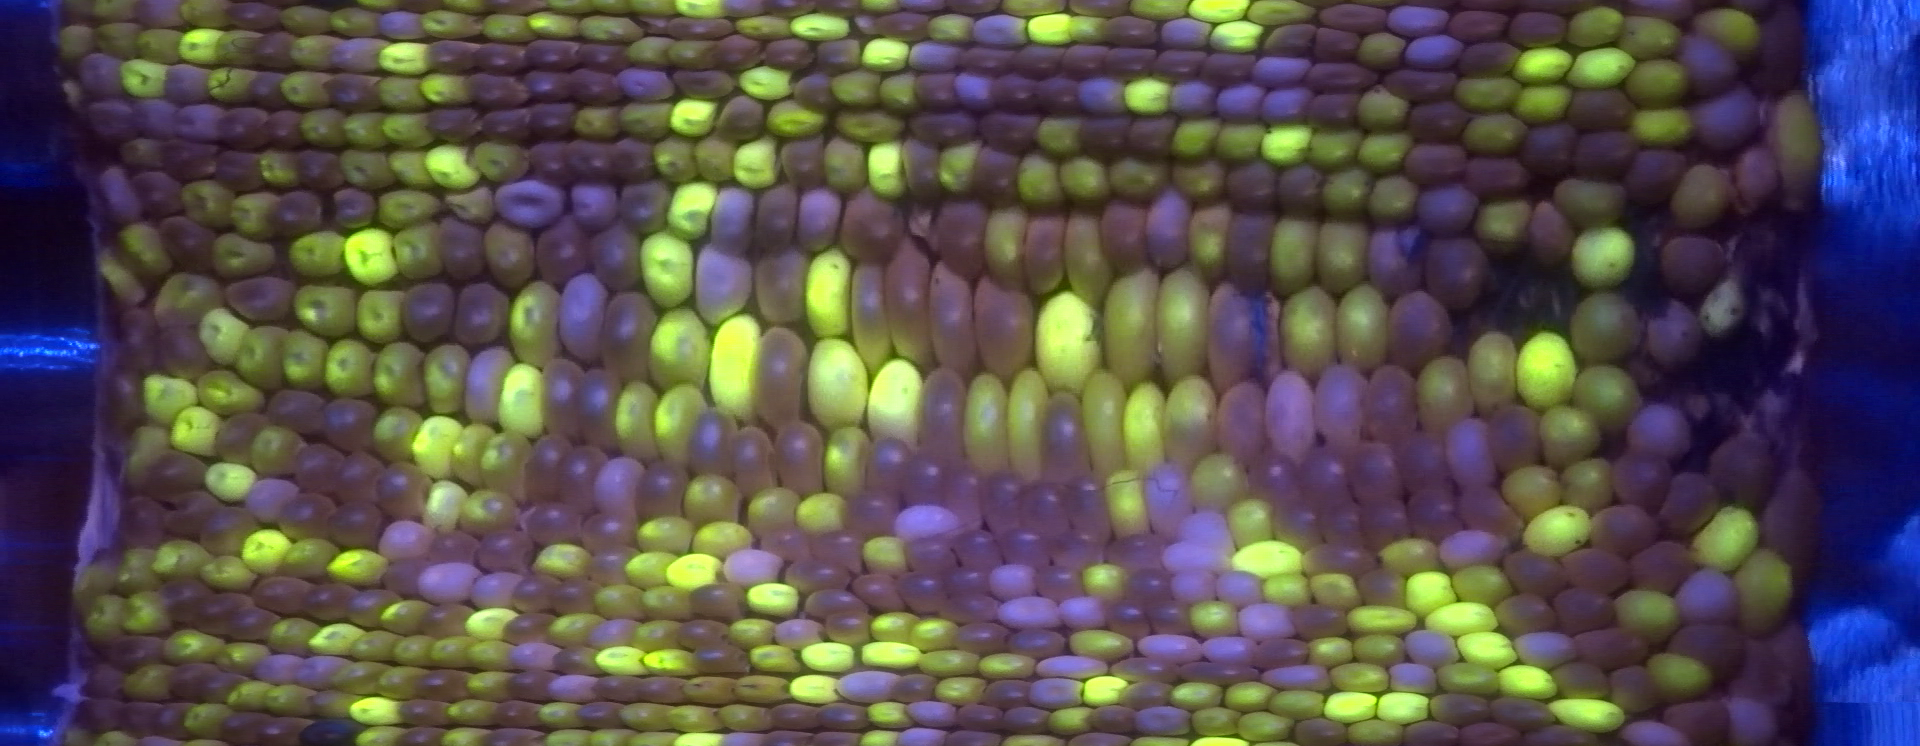fluorescent: (1093, 263, 1168, 393), (1030, 285, 1111, 402), (1763, 86, 1829, 219), (1149, 258, 1217, 383), (703, 309, 769, 428), (802, 334, 879, 436), (951, 365, 1018, 480), (643, 301, 722, 397), (1157, 372, 1228, 477), (1565, 285, 1648, 374), (1271, 281, 1346, 376), (1725, 546, 1799, 641), (860, 353, 932, 448), (1075, 366, 1134, 481), (1060, 203, 1122, 314), (504, 277, 573, 372), (1000, 364, 1053, 488), (1569, 359, 1651, 437), (1411, 349, 1480, 441), (1511, 323, 1582, 413), (1684, 501, 1764, 579), (800, 243, 860, 347), (1329, 277, 1389, 379), (647, 376, 709, 472), (634, 228, 702, 314), (606, 375, 669, 467), (144, 268, 233, 332), (1562, 222, 1641, 293), (1660, 157, 1739, 228), (1460, 330, 1524, 415), (1116, 379, 1176, 470), (1261, 208, 1322, 298), (366, 336, 433, 416), (976, 198, 1032, 294), (1536, 401, 1609, 472), (492, 359, 552, 446), (1551, 169, 1635, 232), (414, 336, 478, 416), (1311, 209, 1368, 300), (1180, 450, 1258, 516), (227, 322, 296, 394), (1607, 583, 1686, 646), (474, 426, 539, 502), (1518, 501, 1599, 561), (287, 279, 365, 341), (1640, 649, 1722, 707), (317, 333, 384, 403), (1013, 146, 1078, 218), (1493, 461, 1566, 524), (111, 420, 169, 500), (1687, 5, 1768, 61), (1184, 198, 1236, 287), (1619, 55, 1698, 111), (280, 225, 355, 285), (193, 304, 257, 374), (819, 421, 876, 500), (193, 366, 272, 423), (386, 218, 451, 285), (659, 176, 721, 246), (1466, 194, 1538, 254), (1098, 465, 1157, 539), (1054, 149, 1120, 214), (456, 481, 527, 541), (1559, 39, 1636, 94), (86, 245, 151, 310), (339, 223, 403, 289), (109, 220, 178, 282), (1558, 453, 1620, 519), (136, 366, 203, 428), (372, 183, 452, 234), (932, 135, 992, 202), (1442, 559, 1517, 612), (277, 325, 334, 394), (860, 134, 916, 205), (247, 420, 311, 483), (1102, 152, 1176, 206), (176, 175, 244, 234), (204, 228, 284, 277), (1222, 495, 1287, 555), (1542, 692, 1632, 735), (163, 402, 230, 459), (234, 524, 301, 582), (1613, 12, 1690, 62), (407, 412, 459, 485), (1622, 104, 1704, 151), (1456, 107, 1532, 157), (1226, 538, 1314, 581), (468, 135, 531, 194), (686, 517, 764, 565), (351, 283, 408, 349), (1420, 598, 1505, 642), (627, 511, 704, 559), (1364, 167, 1422, 230), (1351, 80, 1414, 137), (369, 402, 425, 467), (276, 534, 347, 586), (449, 420, 497, 496), (227, 187, 288, 246), (62, 557, 124, 616), (1452, 72, 1531, 118), (76, 590, 135, 650), (743, 481, 807, 537), (420, 140, 485, 194), (760, 96, 831, 145), (331, 146, 402, 195), (658, 546, 730, 594), (1060, 625, 1142, 666), (1371, 535, 1449, 579), (1300, 122, 1371, 170), (1558, 5, 1632, 50), (1396, 568, 1463, 619), (727, 134, 782, 195), (831, 107, 915, 147), (323, 544, 396, 590), (680, 472, 743, 524), (1352, 125, 1417, 176), (375, 107, 444, 154), (585, 579, 659, 625), (857, 631, 931, 676), (1167, 156, 1233, 206), (440, 178, 506, 228), (1319, 162, 1375, 220), (147, 537, 218, 583), (1030, 113, 1091, 167), (1166, 115, 1229, 167), (200, 62, 268, 110), (198, 457, 262, 508), (1340, 601, 1425, 639), (795, 635, 864, 681), (820, 132, 869, 198), (1507, 43, 1580, 87), (258, 612, 323, 661), (689, 134, 744, 191), (571, 10, 654, 48), (420, 475, 473, 535), (1256, 119, 1318, 170), (114, 54, 175, 105), (1510, 81, 1577, 127), (1451, 627, 1522, 671), (1433, 659, 1507, 701), (613, 99, 682, 145), (192, 549, 261, 594), (110, 543, 168, 597), (789, 490, 853, 538), (116, 586, 175, 638), (527, 539, 596, 583), (1211, 120, 1273, 169), (55, 20, 107, 78), (211, 20, 269, 71), (822, 66, 887, 113), (1183, 595, 1248, 642), (725, 669, 800, 709), (302, 617, 369, 663), (911, 646, 989, 684), (651, 134, 707, 187), (740, 579, 807, 624), (1491, 661, 1562, 703), (384, 146, 443, 196), (283, 29, 349, 73), (372, 72, 438, 116), (618, 548, 684, 592), (276, 65, 338, 111), (782, 669, 852, 710), (1326, 659, 1396, 701), (159, 626, 227, 669), (460, 605, 531, 646), (707, 697, 778, 737), (331, 658, 402, 698), (336, 109, 397, 156), (373, 597, 440, 639), (258, 680, 331, 719), (131, 24, 190, 72), (730, 61, 797, 103), (664, 94, 724, 141), (1265, 684, 1330, 726), (874, 67, 927, 120), (296, 105, 353, 154), (87, 18, 149, 62), (415, 69, 478, 113), (907, 612, 970, 657), (1071, 669, 1138, 710), (118, 663, 184, 704), (1352, 28, 1411, 75), (107, 135, 176, 174), (343, 624, 407, 666), (1303, 570, 1367, 612), (541, 608, 606, 649), (473, 10, 546, 47), (1120, 72, 1176, 121), (174, 23, 233, 69), (373, 37, 437, 78), (1319, 688, 1382, 730), (629, 615, 689, 659), (860, 530, 913, 579), (741, 638, 808, 677), (1204, 17, 1269, 58), (636, 644, 707, 681), (856, 33, 915, 77), (343, 695, 415, 730), (591, 641, 653, 682), (273, 1, 338, 40), (457, 636, 522, 675), (1078, 561, 1135, 605), (730, 11, 801, 47), (255, 147, 307, 195), (520, 7, 587, 45), (786, 6, 852, 44), (1300, 633, 1360, 675), (638, 582, 698, 624), (212, 638, 276, 677), (388, 628, 444, 673), (676, 671, 746, 707), (618, 34, 686, 71), (1162, 677, 1229, 714), (1234, 707, 1302, 744), (928, 670, 996, 707), (571, 102, 628, 145), (659, 36, 724, 73), (1259, 570, 1318, 611), (422, 631, 481, 673), (462, 664, 524, 703), (371, 661, 433, 701), (1374, 687, 1434, 728), (222, 676, 285, 714), (1347, 631, 1411, 669), (864, 608, 926, 647), (1022, 9, 1080, 50), (662, 701, 730, 736), (613, 697, 681, 733), (440, 693, 507, 729), (178, 699, 240, 737), (418, 9, 484, 44), (973, 650, 1044, 684), (1240, 1, 1322, 29), (924, 10, 983, 49), (324, 7, 388, 43), (530, 697, 594, 733), (1220, 679, 1281, 715), (726, 612, 780, 654), (1188, 703, 1244, 742), (1341, 715, 1411, 746), (1042, 703, 1103, 737), (853, 698, 916, 731), (174, 1, 238, 33), (1183, 1, 1256, 28), (83, 1, 149, 29), (1067, 12, 1116, 49), (1120, 1, 1194, 24), (996, 1, 1075, 21), (433, 722, 495, 746), (351, 723, 414, 746), (669, 1, 730, 24)
nonfluorescent: (879, 234, 936, 379), (966, 272, 1037, 381), (747, 321, 813, 435), (1756, 465, 1821, 576), (910, 361, 973, 473), (831, 180, 913, 265), (923, 257, 978, 377), (1199, 278, 1255, 394), (1218, 202, 1282, 304), (591, 289, 660, 383), (1417, 228, 1491, 314), (1258, 366, 1322, 464), (1684, 85, 1767, 160), (1382, 287, 1453, 375), (1308, 363, 1374, 456), (928, 194, 997, 283), (1359, 219, 1427, 307), (1654, 621, 1749, 684), (691, 236, 756, 327), (1033, 386, 1092, 484), (1340, 432, 1411, 512), (525, 211, 593, 292), (1708, 430, 1778, 507), (1360, 358, 1422, 445), (847, 257, 891, 375), (754, 244, 816, 328), (1663, 566, 1742, 631), (1136, 461, 1198, 544), (1216, 380, 1273, 468), (1619, 399, 1690, 470), (1671, 29, 1741, 102), (1095, 196, 1155, 279), (1654, 232, 1729, 298), (746, 179, 807, 258), (1641, 299, 1702, 379), (1217, 153, 1284, 225), (557, 271, 609, 364), (580, 218, 647, 290), (489, 176, 568, 236), (459, 342, 513, 430), (771, 415, 827, 501), (1440, 416, 1500, 495), (1141, 185, 1193, 276), (725, 419, 781, 501), (572, 366, 627, 450), (1480, 403, 1543, 477), (1605, 448, 1674, 514), (551, 441, 613, 513), (789, 183, 846, 261), (1018, 211, 1067, 303), (1288, 448, 1356, 514), (1011, 477, 1076, 545), (1658, 465, 1723, 534), (1445, 479, 1522, 537), (444, 281, 506, 353), (1520, 201, 1582, 269), (1392, 428, 1455, 496), (538, 352, 584, 443), (1512, 120, 1582, 180), (1569, 124, 1638, 184), (833, 485, 906, 541), (1413, 181, 1480, 243), (87, 164, 149, 229), (394, 279, 456, 345), (1583, 503, 1658, 557), (707, 179, 756, 261), (154, 212, 217, 276), (1622, 147, 1689, 207), (1621, 540, 1698, 592), (1560, 85, 1638, 135), (149, 320, 211, 383), (313, 394, 378, 454), (1240, 450, 1305, 510), (1393, 137, 1471, 187), (522, 431, 572, 508), (631, 461, 687, 529), (261, 382, 331, 437), (590, 454, 645, 524), (1499, 548, 1569, 603), (433, 212, 487, 283), (1248, 285, 1284, 390), (689, 405, 740, 481), (1547, 582, 1619, 635), (1396, 97, 1471, 147), (158, 127, 220, 187), (1269, 160, 1327, 224), (78, 92, 143, 149), (1558, 546, 1631, 597), (564, 176, 626, 236), (617, 174, 680, 233), (1654, 697, 1733, 744), (142, 448, 208, 503), (113, 304, 162, 377), (1062, 474, 1111, 548), (206, 405, 268, 463), (1569, 625, 1652, 668), (1489, 589, 1560, 639), (771, 136, 833, 194), (961, 145, 1024, 201), (331, 447, 387, 510), (373, 457, 430, 519), (1434, 526, 1513, 570), (1461, 149, 1529, 200), (218, 276, 298, 318), (898, 136, 945, 207), (244, 572, 318, 617), (287, 439, 347, 495), (1380, 66, 1463, 107), (517, 64, 579, 118), (1116, 111, 1184, 160), (1731, 142, 1779, 212), (978, 469, 1026, 539), (1714, 693, 1780, 744), (321, 499, 388, 548), (465, 526, 533, 575), (1266, 502, 1329, 555), (273, 491, 338, 541), (193, 507, 260, 556), (149, 575, 216, 624), (862, 431, 913, 494), (605, 134, 661, 190), (129, 168, 186, 223), (369, 516, 435, 563), (803, 530, 871, 577), (100, 367, 144, 439), (888, 503, 959, 548), (1507, 628, 1578, 673), (713, 92, 769, 147), (898, 452, 954, 507), (778, 554, 850, 597), (1298, 543, 1376, 582), (1502, 6, 1570, 51), (211, 105, 274, 153), (127, 89, 182, 145), (271, 186, 324, 243), (1356, 494, 1407, 552), (111, 492, 163, 551), (156, 488, 220, 534), (168, 97, 229, 146), (413, 559, 482, 601), (1447, 40, 1523, 80), (318, 73, 386, 118), (849, 565, 905, 617), (191, 590, 255, 637), (609, 67, 680, 109), (1487, 691, 1558, 733), (1600, 661, 1659, 712), (1073, 72, 1133, 121), (996, 592, 1064, 635), (1297, 59, 1376, 96), (1078, 111, 1133, 164), (1407, 486, 1460, 541), (524, 136, 576, 192), (71, 50, 129, 100), (241, 475, 299, 526), (1161, 533, 1228, 576), (658, 9, 733, 47), (906, 110, 984, 147), (1173, 513, 1244, 554), (1400, 29, 1464, 73), (298, 579, 362, 624), (328, 34, 397, 76), (578, 508, 639, 555), (787, 69, 842, 120), (157, 60, 217, 107), (464, 70, 529, 113), (1354, 563, 1411, 612), (1303, 85, 1365, 129), (467, 566, 525, 612), (1104, 530, 1168, 573), (1289, 598, 1349, 643), (1547, 661, 1611, 703), (340, 586, 402, 630), (1174, 654, 1259, 686), (1107, 653, 1185, 687), (1382, 1, 1449, 42), (904, 37, 967, 78), (981, 107, 1033, 157), (951, 527, 1004, 577), (669, 62, 736, 102), (527, 502, 582, 550), (1400, 626, 1461, 669), (718, 546, 782, 587), (684, 581, 749, 621), (1129, 699, 1194, 740), (1044, 533, 1107, 575), (425, 103, 484, 147), (834, 668, 900, 707), (326, 185, 375, 238), (1213, 78, 1267, 126), (207, 146, 267, 189), (1259, 658, 1333, 692), (240, 70, 296, 115), (983, 559, 1040, 604), (1234, 601, 1299, 641), (1428, 688, 1493, 728), (969, 11, 1031, 51), (1247, 53, 1315, 89), (1316, 499, 1368, 548), (895, 570, 949, 616), (411, 664, 471, 706), (1104, 38, 1160, 83), (1163, 77, 1218, 122), (1031, 650, 1109, 682), (165, 658, 222, 702), (124, 1, 196, 36), (1256, 85, 1318, 125), (902, 537, 960, 579), (418, 600, 475, 643), (471, 34, 525, 80), (564, 138, 618, 184), (1210, 563, 1264, 609), (1442, 9, 1509, 45), (475, 107, 530, 151), (583, 615, 647, 653), (943, 461, 982, 522), (1102, 597, 1153, 643), (801, 586, 871, 620), (910, 69, 962, 114), (509, 571, 562, 616), (691, 639, 753, 677), (1146, 45, 1206, 85), (1134, 635, 1205, 668), (105, 631, 162, 673), (1316, 4, 1390, 36), (951, 69, 998, 119), (258, 107, 305, 157), (1022, 676, 1087, 712), (1054, 590, 1109, 632), (520, 36, 580, 73), (547, 576, 604, 616), (1033, 559, 1084, 604), (116, 695, 167, 740), (1194, 49, 1258, 85), (1194, 632, 1258, 668), (564, 66, 617, 109), (1056, 40, 1109, 82), (424, 528, 478, 570), (218, 2, 285, 36), (591, 545, 647, 586), (936, 590, 1003, 624), (958, 44, 1022, 78), (1117, 565, 1173, 604), (247, 650, 307, 687), (1380, 659, 1440, 696), (527, 99, 579, 141), (1260, 22, 1318, 60), (758, 36, 816, 73), (1009, 42, 1067, 80), (549, 642, 606, 680), (1000, 625, 1069, 657), (951, 621, 1013, 657), (376, 7, 431, 47), (1141, 597, 1196, 636), (222, 604, 277, 643), (1247, 637, 1314, 669), (497, 612, 557, 648), (1167, 567, 1220, 608), (874, 9, 932, 45), (502, 663, 560, 699), (380, 555, 429, 598), (940, 561, 996, 599), (675, 614, 730, 652), (1000, 523, 1051, 565), (637, 670, 696, 706), (902, 695, 961, 730), (1116, 677, 1176, 712), (814, 36, 864, 76), (501, 641, 564, 673), (291, 653, 350, 687), (887, 670, 938, 709), (590, 669, 647, 704), (425, 37, 478, 75), (1100, 15, 1160, 48), (72, 697, 126, 734), (252, 28, 296, 72), (571, 40, 629, 73), (812, 698, 871, 731), (820, 611, 877, 646), (394, 695, 452, 728), (296, 146, 339, 190), (545, 668, 600, 702), (1081, 699, 1136, 734), (768, 698, 822, 733), (1310, 28, 1360, 65), (1289, 715, 1352, 745), (1158, 18, 1213, 51), (153, 695, 191, 742), (711, 34, 764, 69), (490, 698, 546, 730), (573, 696, 623, 731), (80, 659, 124, 699), (771, 617, 823, 652), (999, 703, 1057, 734), (754, 524, 809, 556), (198, 669, 246, 706), (951, 699, 1007, 731), (1615, 718, 1682, 744), (216, 710, 269, 742), (260, 712, 313, 744), (980, 677, 1036, 707), (298, 717, 361, 742), (1038, 82, 1073, 113)
